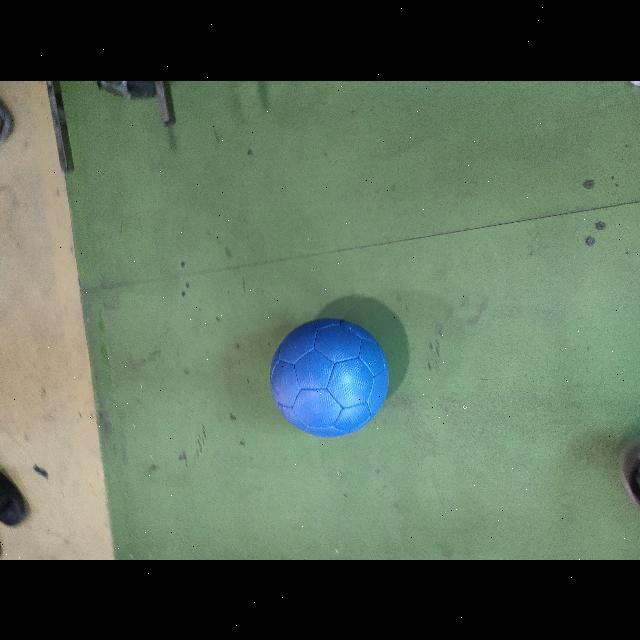B: (270, 317, 392, 438)
